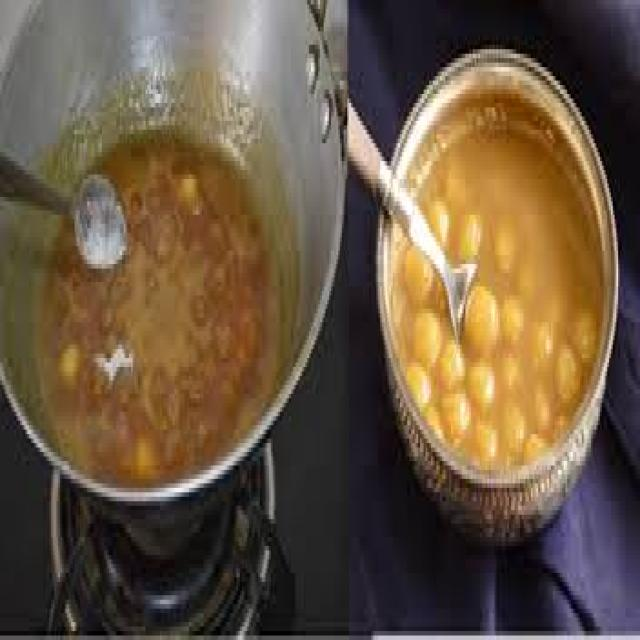paal kolukattai: (400, 122, 605, 494)
